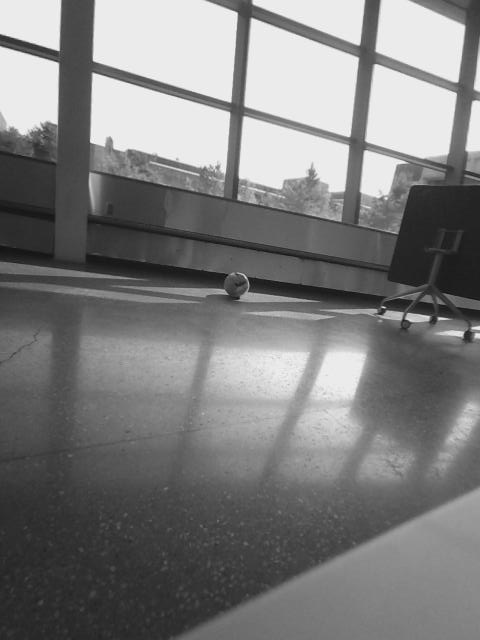ball: (223, 270, 252, 299)
